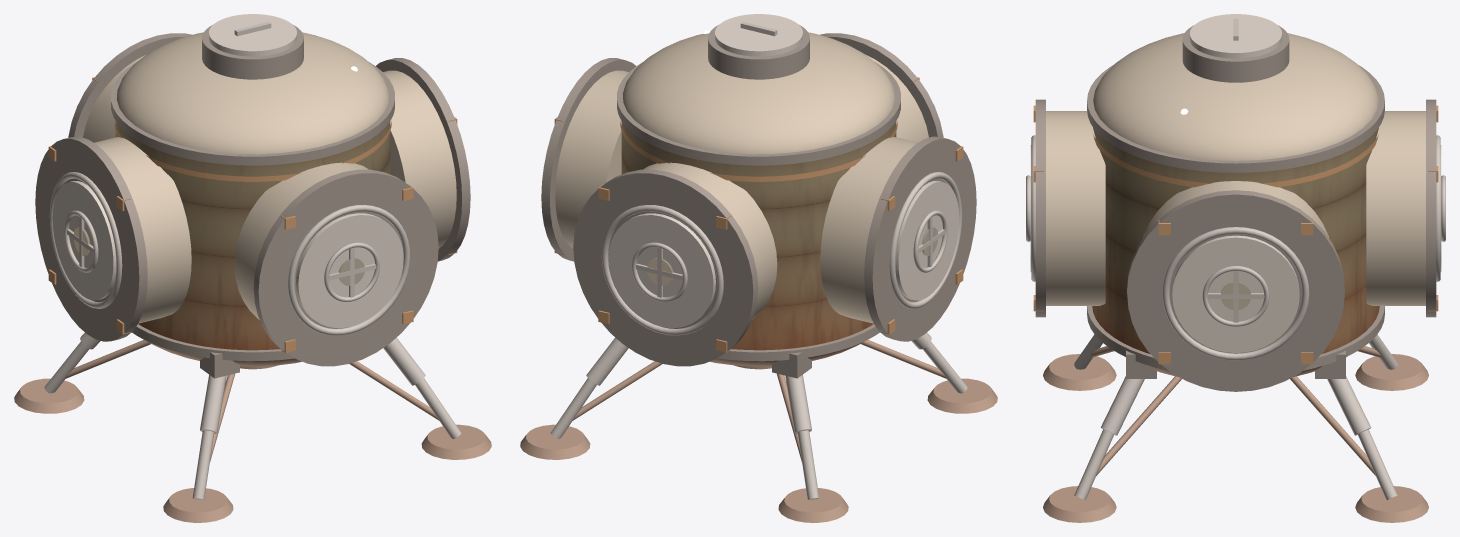
File: W04_node_4ports.glb
The picture shows the model from 3 angles, left to right: view 1: azimuth 30°, elevation 25°; view 2: azimuth 150°, elevation 25°; view 3: azimuth 270°, elevation 25°; orthographic projection. The views are drawn at different scales.
Visible parts, largest first — view 1: port_flange (×4), top_dome, port_tunnel (×4), hull, port_door (×2), ring (×2), footpad (×3), port_seal (×2), top_hatch_lid, top_hatch_collar, leg_piston (×3), leg_upper (×2) (+5 smaller); view 2: port_flange (×4), top_dome, port_tunnel (×4), hull, port_door (×2), ring (×2), footpad (×3), port_seal (×2), top_hatch_lid, top_hatch_collar, leg_piston (×3), leg_upper (×2) (+5 smaller); view 3: port_flange (×3), top_dome, port_tunnel (×3), hull, port_door, footpad (×4), ring (×2), port_seal (×3), top_hatch_lid, top_hatch_collar, leg_upper (×2), leg_piston (×2) (+6 smaller).
Boxes of the visible parts, x1,y1,x2,y2 form: port_flange (×4): (35,33,470,366); top_dome: (116,32,389,154); port_tunnel (×4): (83,54,456,323); hull: (115,121,390,350); port_door (×2): (52,181,403,327); ring (×2): (111,61,394,361); footpad (×3): (14,378,491,522); port_seal (×2): (49,172,410,335); top_hatch_lid: (209,14,296,56); top_hatch_collar: (202,25,303,79); leg_piston (×3): (44,342,461,499); leg_upper (×2): (200,337,425,433); port_flange (×4): (541,33,976,366); top_dome: (622,32,895,154); port_tunnel (×4): (555,54,928,323); hull: (621,121,896,350); port_door (×2): (608,181,959,327); ring (×2): (617,61,900,361); footpad (×3): (520,378,997,522); port_seal (×2): (601,172,962,335); top_hatch_lid: (715,14,802,56); top_hatch_collar: (708,25,809,79); leg_piston (×3): (550,342,967,499); leg_upper (×2): (586,337,811,433); port_flange (×3): (1035,99,1436,391); top_dome: (1093,33,1378,160); port_tunnel (×3): (1046,111,1425,305); hull: (1092,127,1379,353); port_door: (1172,235,1299,352); footpad (×4): (1043,354,1428,522); ring (×2): (1087,65,1384,370); port_seal (×3): (1031,135,1440,360); top_hatch_lid: (1189,14,1282,58); top_hatch_collar: (1182,25,1289,82); leg_upper (×2): (1100,376,1371,435); leg_piston (×2): (1074,429,1397,499).
Size of the model in its own units: 4.09 by 4.45 by 4.09.
9 materials, 1 textured.
